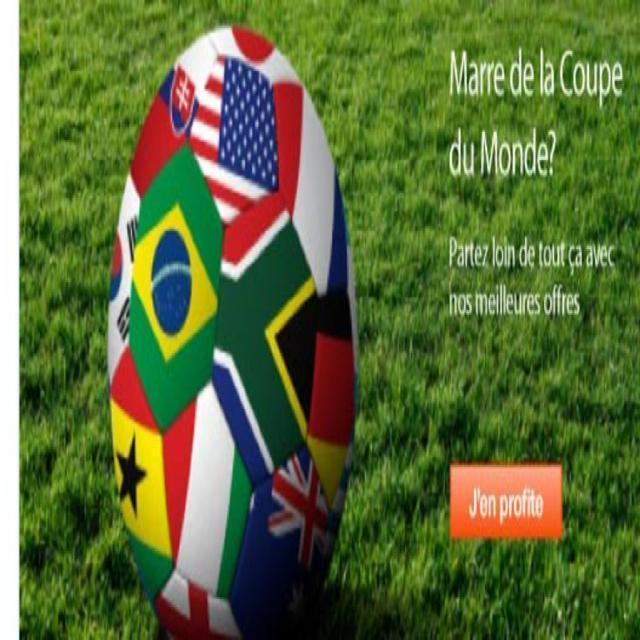ball: (108, 22, 366, 637)
